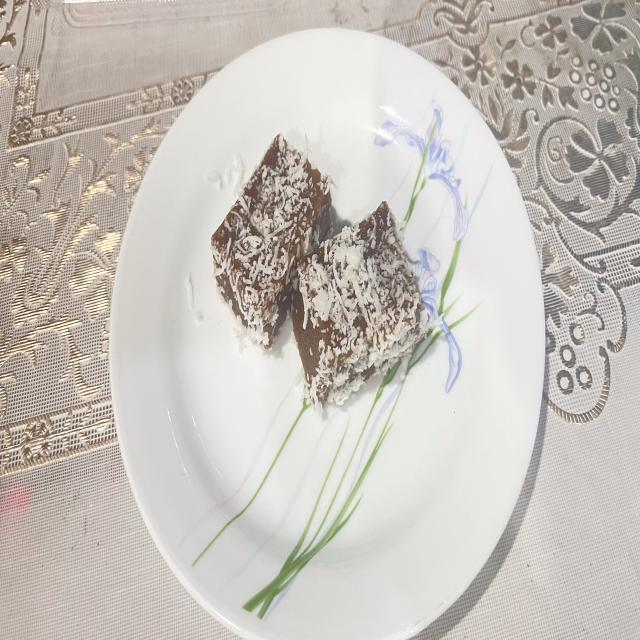kaswi: (292, 202, 429, 407), (211, 133, 331, 347)
